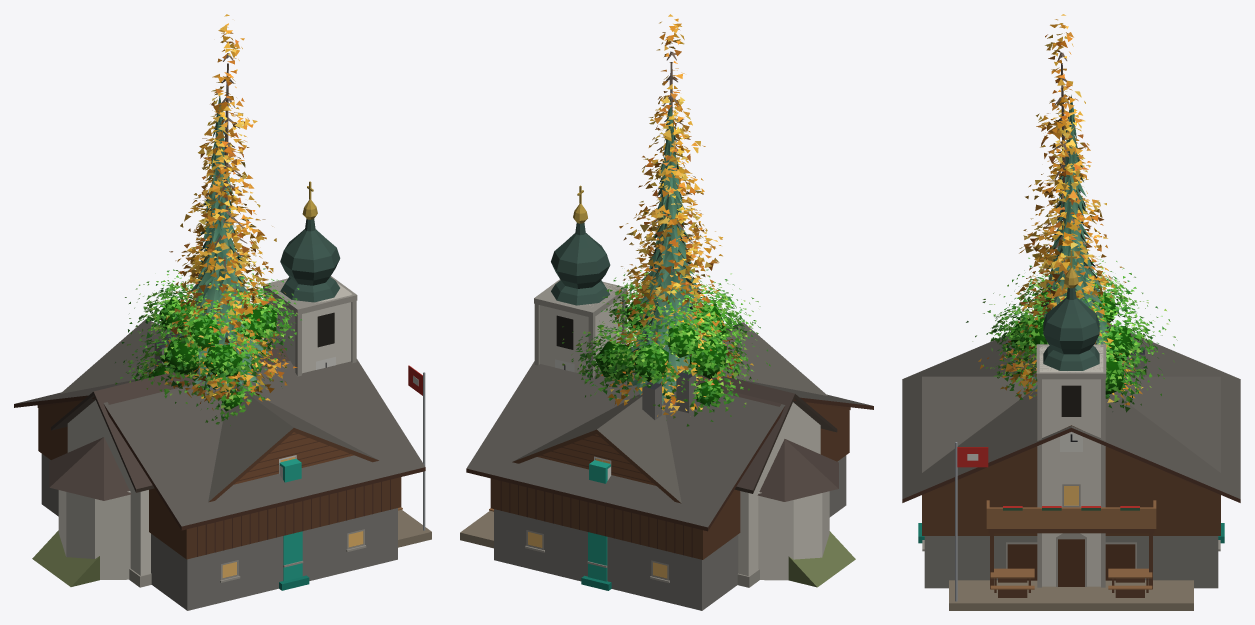
The model's file is env_alps.glb.
The picture shows the model from 3 angles, left to right: view 1: azimuth 30°, elevation 25°; view 2: azimuth 150°, elevation 25°; view 3: azimuth 270°, elevation 25°; orthographic projection.
Visible parts, largest first — view 1: SM_Barn_AL, SM_Chapel_AL, SM_MountainHut_AL, SM_Broadleaf_A, SM_Larch_B, SM_Larch_A, SM_Spruce_C, SM_FinishArch, SM_StonePine_A, SM_Chalet_AL; view 2: SM_Barn_AL, SM_Chapel_AL, SM_Broadleaf_A, SM_MountainHut_AL, SM_Larch_B, SM_Spruce_C, SM_Larch_A, SM_StonePine_A, SM_FinishArch, SM_Chalet_AL; view 3: SM_Barn_AL, SM_MountainHut_AL, SM_Chapel_AL, SM_Larch_B, SM_Broadleaf_A, SM_Chalet_AL, SM_Spruce_C, SM_Larch_A, SM_StonePine_A.
Boxes of the visible parts, box(x1,y1,x2,y2) form: SM_Barn_AL: box(14, 345, 425, 610); SM_Chapel_AL: box(49, 181, 357, 587); SM_MountainHut_AL: box(60, 319, 431, 547); SM_Broadleaf_A: box(115, 268, 301, 425); SM_Larch_B: box(141, 14, 297, 405); SM_Larch_A: box(149, 110, 280, 410); SM_Spruce_C: box(191, 96, 257, 385); SM_FinishArch: box(279, 459, 309, 590); SM_StonePine_A: box(175, 273, 268, 389); SM_Chalet_AL: box(37, 339, 289, 407); SM_Barn_AL: box(466, 347, 873, 610); SM_Chapel_AL: box(534, 185, 838, 587); SM_Broadleaf_A: box(562, 259, 770, 426); SM_MountainHut_AL: box(460, 322, 827, 548); SM_Larch_B: box(601, 14, 753, 415); SM_Spruce_C: box(638, 99, 702, 384); SM_Larch_A: box(609, 110, 725, 416); SM_StonePine_A: box(626, 266, 706, 403); SM_FinishArch: box(581, 460, 611, 590); SM_Chalet_AL: box(676, 370, 850, 413); SM_Barn_AL: box(902, 325, 1240, 588); SM_MountainHut_AL: box(922, 348, 1220, 610); SM_Chapel_AL: box(1036, 249, 1106, 587); SM_Larch_B: box(978, 14, 1143, 405); SM_Broadleaf_A: box(966, 256, 1177, 412); SM_Chalet_AL: box(941, 425, 1201, 589); SM_Spruce_C: box(1034, 95, 1109, 390); SM_Larch_A: box(1000, 108, 1134, 399); SM_StonePine_A: box(1030, 264, 1109, 395).
Bounding box in the file's own units: 15.3 × 23.8 × 13.8.
